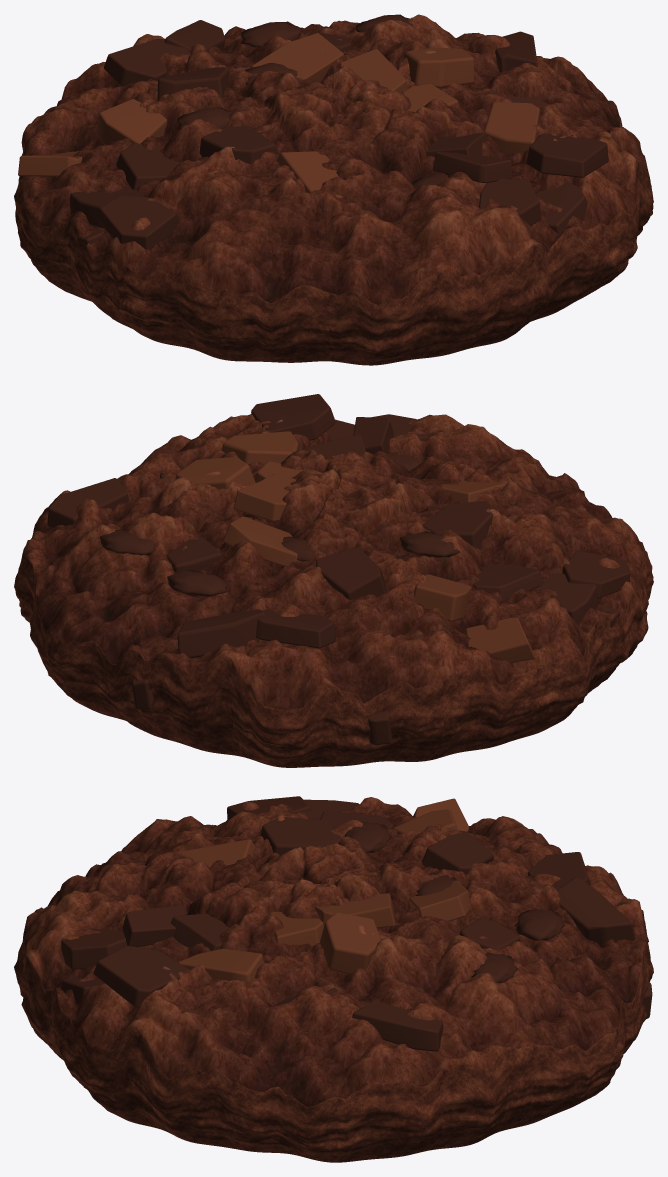
File: tem_double-choco.glb
The picture shows the model from 3 angles, top to bottom: view 1: azimuth 30°, elevation 25°; view 2: azimuth 150°, elevation 25°; view 3: azimuth 270°, elevation 25°; orthographic projection. The views are drawn at different scales.
Parts seen in each view (by area): view 1: Baked porous crumb, Dark chocolate, Milk chocolate; view 2: Baked porous crumb, Dark chocolate, Milk chocolate; view 3: Baked porous crumb, Dark chocolate, Milk chocolate.
Part boxes in pixels (left/top/right/bottom): Baked porous crumb: left=14, top=14, right=653, bottom=365; Dark chocolate: left=70, top=14, right=642, bottom=249; Milk chocolate: left=18, top=33, right=540, bottom=198; Baked porous crumb: left=14, top=414, right=653, bottom=767; Dark chocolate: left=47, top=394, right=630, bottom=744; Milk chocolate: left=175, top=431, right=535, bottom=662; Baked porous crumb: left=14, top=797, right=653, bottom=1162; Dark chocolate: left=61, top=796, right=652, bottom=1074; Milk chocolate: left=165, top=798, right=469, bottom=983.
Bounding box in the file's own units: 0.093 × 0.0273 × 0.0903.
4 materials, 2 textured.
